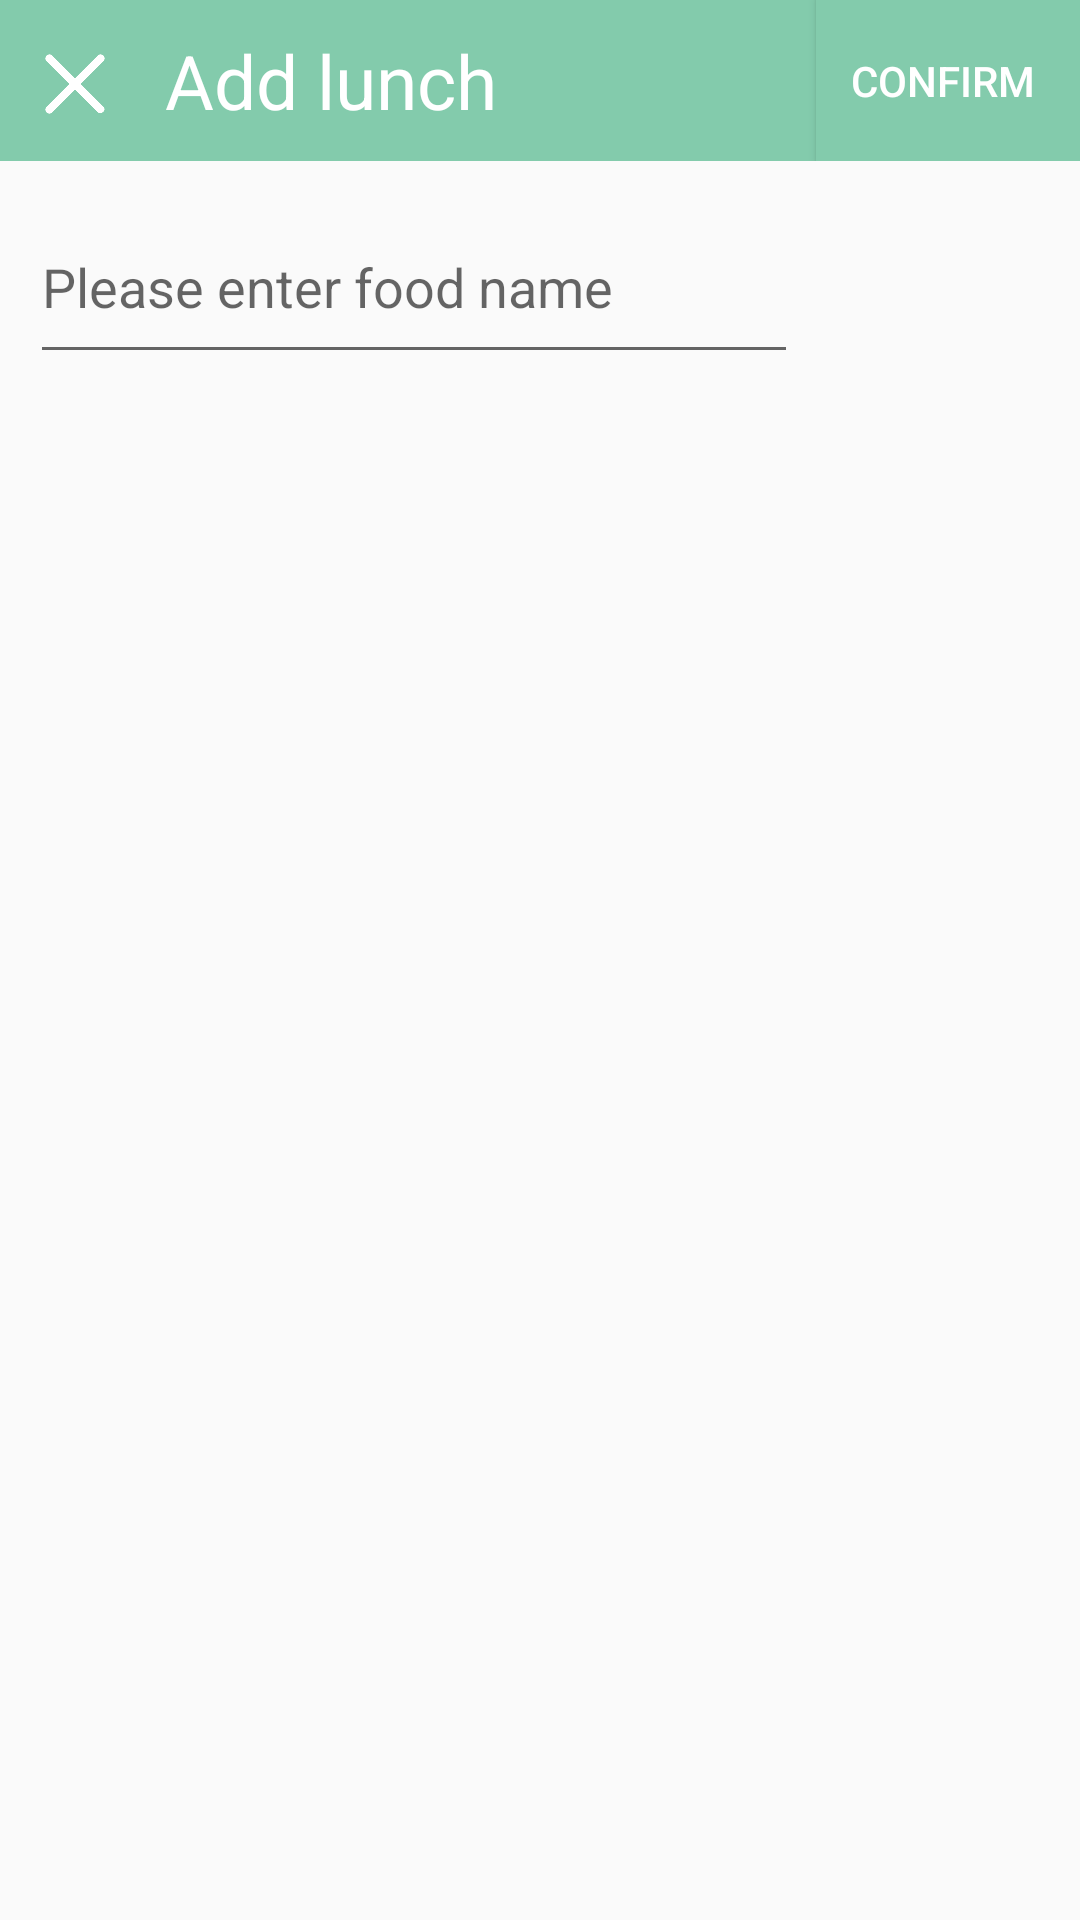

Locate icon controls on the screen. Image size 1080x1920, boxes as {"x1": x1, "y1": y1, "x2": x2, "y2": y2}.
cancel: {"x1": 45, "y1": 54, "x2": 105, "y2": 114}
